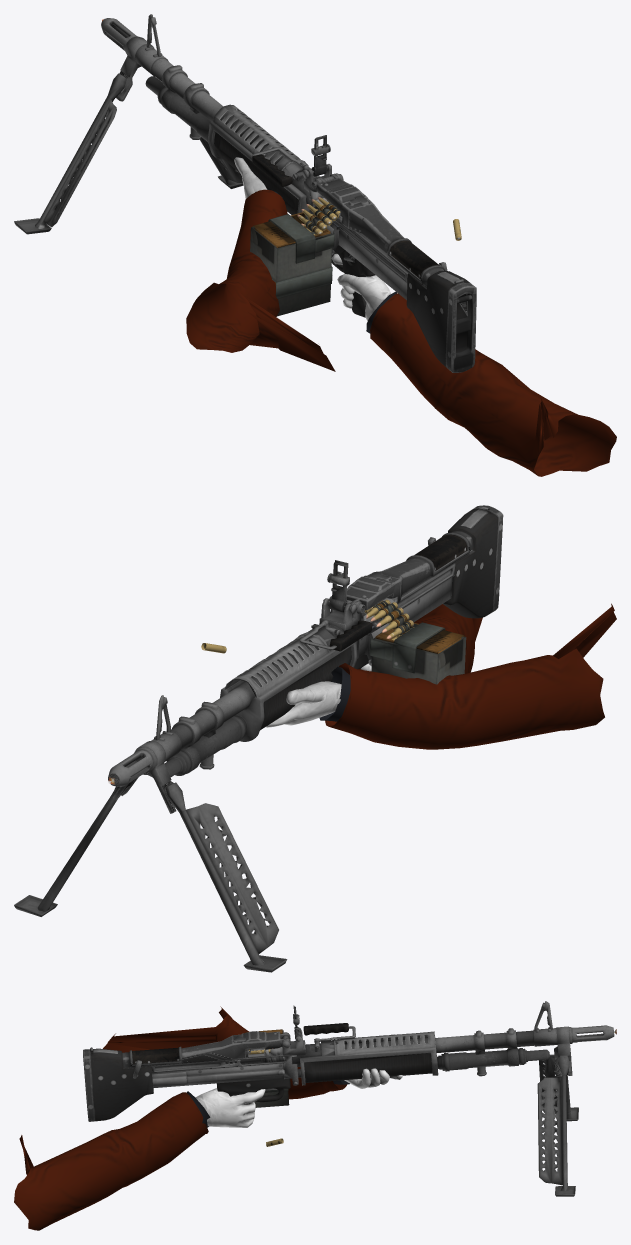
The model's file is frame_26.obj.
3 renders of one model, top to bottom at view 1: azimuth 30°, elevation 25°; view 2: azimuth 150°, elevation 25°; view 3: azimuth 270°, elevation 25°, orthographic. The views are drawn at different scales.
Visible parts, largest first — view 1: Mesh.005, PlayerModelMerged.001_PlayerModelMerged, Mesh.001; view 2: Mesh.005, PlayerModelMerged.001_PlayerModelMerged, Mesh.001; view 3: Mesh.005, PlayerModelMerged.001_PlayerModelMerged.
Part boxes in pixels (<box>): Mesh.005: <box>14,14,476,372</box>; PlayerModelMerged.001_PlayerModelMerged: <box>186,157,616,476</box>; Mesh.001: <box>297,197,340,235</box>; Mesh.005: <box>14,505,503,972</box>; PlayerModelMerged.001_PlayerModelMerged: <box>266,603,616,749</box>; Mesh.001: <box>366,599,414,639</box>; Mesh.005: <box>83,1001,614,1196</box>; PlayerModelMerged.001_PlayerModelMerged: <box>14,1006,402,1230</box>.
Bounding box in the file's own units: 0.9933 × 0.7499 × 2.16.
